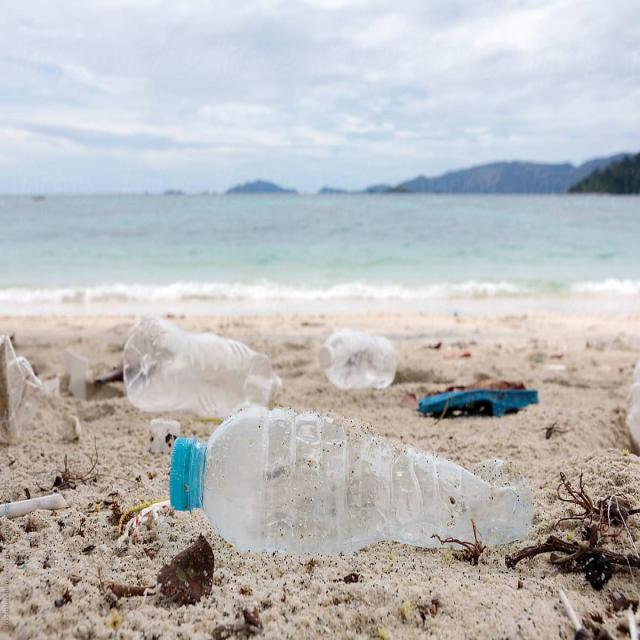bottle: (166, 416, 547, 589)
